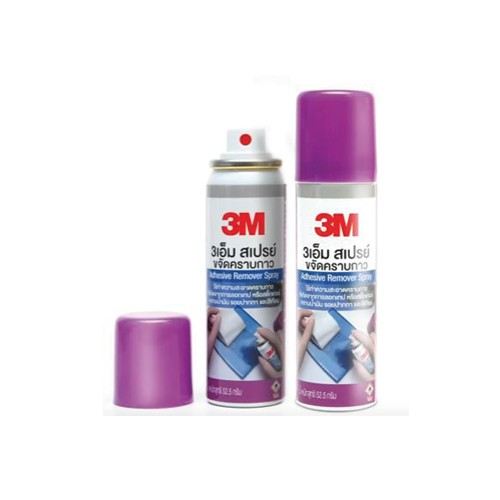Aerosol_cans: (293, 86, 382, 412), (204, 125, 288, 411)
